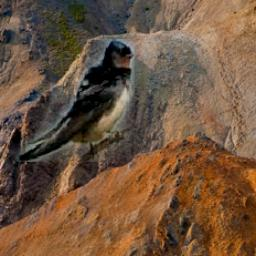Swallow: (0, 40, 135, 163)
